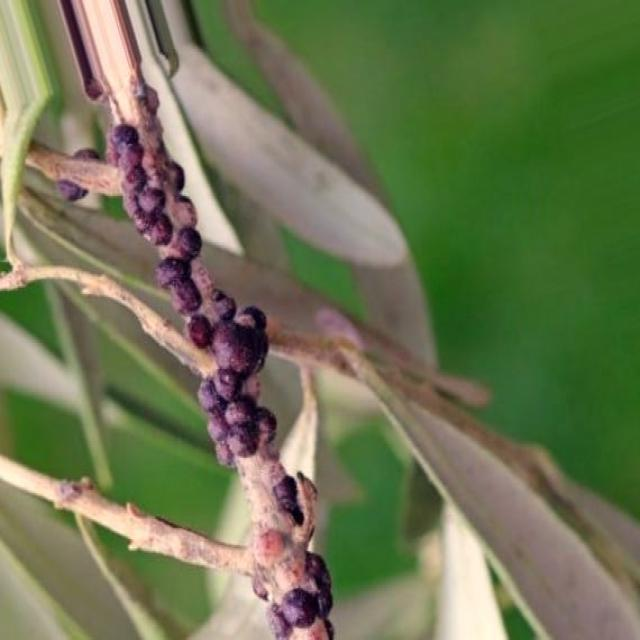BlackScale: (108, 124, 276, 465), (268, 552, 334, 638), (272, 466, 301, 526), (58, 180, 88, 200), (76, 148, 101, 160)
